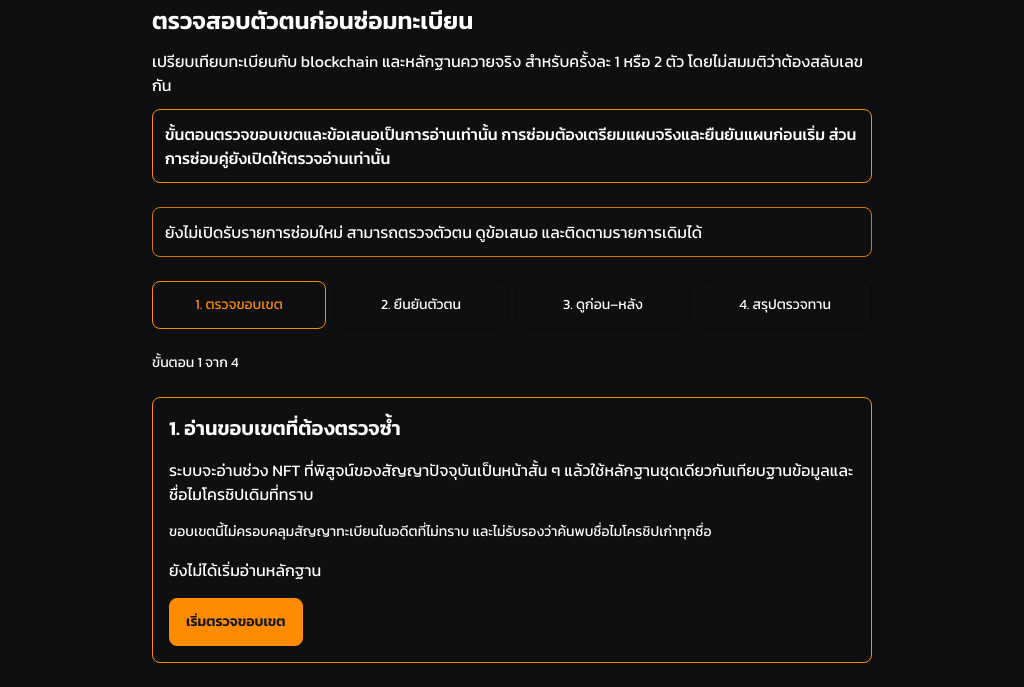
Scenario: legacy source query prefill preserves exact malformed key and leaves desired fields empty
Click the button "เริ่มตรวจขอบเขต" at (236, 622), box [169,598,303,646]
(page scrolled)
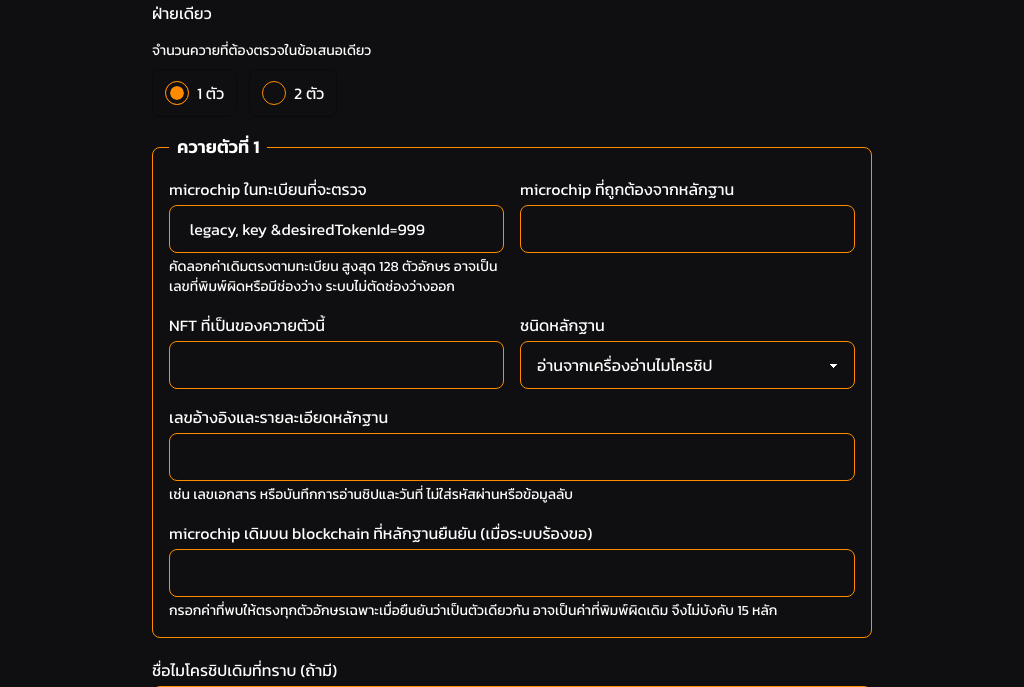
Check: the field with id "repair-source-0" holds " legacy, key &desiredTokenId=999 ", box [169,205,504,253]
Check: the field with id "repair-chip-0" is empty, box [520,205,855,253]
Check: the field with id "repair-token-0" is empty, box [169,341,504,389]
